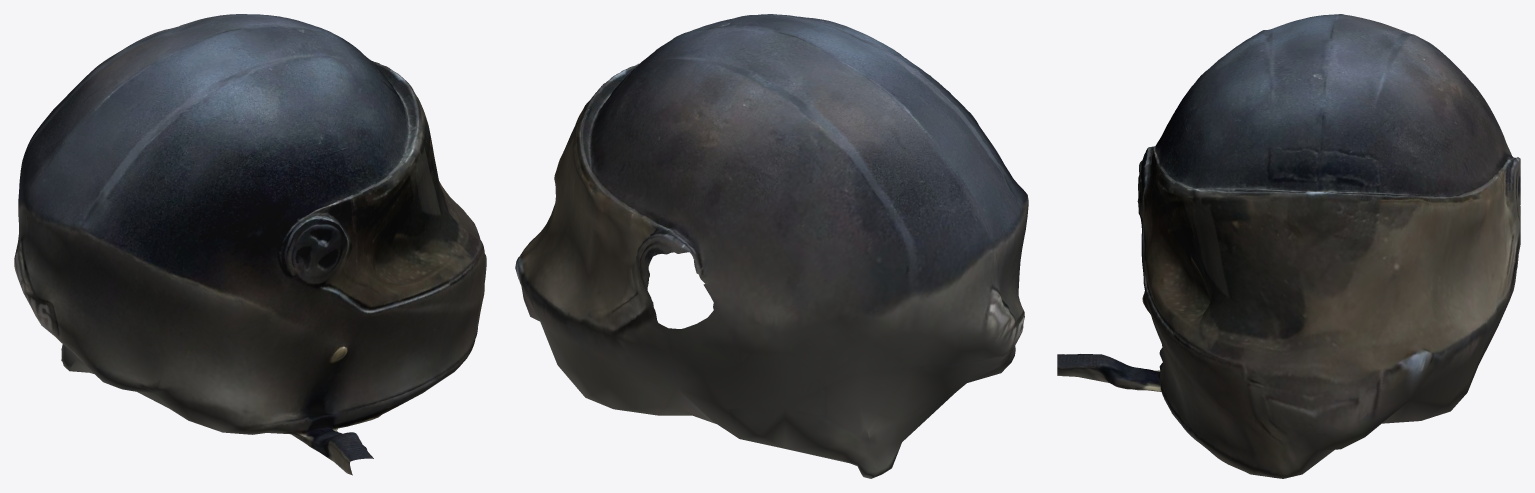
File: helmet.glb
3 views of the same model, side by side, from view 1: azimuth 30°, elevation 25°; view 2: azimuth 150°, elevation 25°; view 3: azimuth 270°, elevation 25° (orthographic). The views are drawn at different scales.
Parts seen in each view (by area): view 1: Mesh; view 2: Mesh; view 3: Mesh.
Part boxes in pixels (box(x1,y1,x2,y2)): Mesh: box(14, 14, 486, 475); Mesh: box(515, 14, 1028, 478); Mesh: box(1057, 14, 1520, 478).
Bounding box in the file's own units: 0.3182 × 0.243 × 0.289.
Materials: 1 (1 with a texture image).
